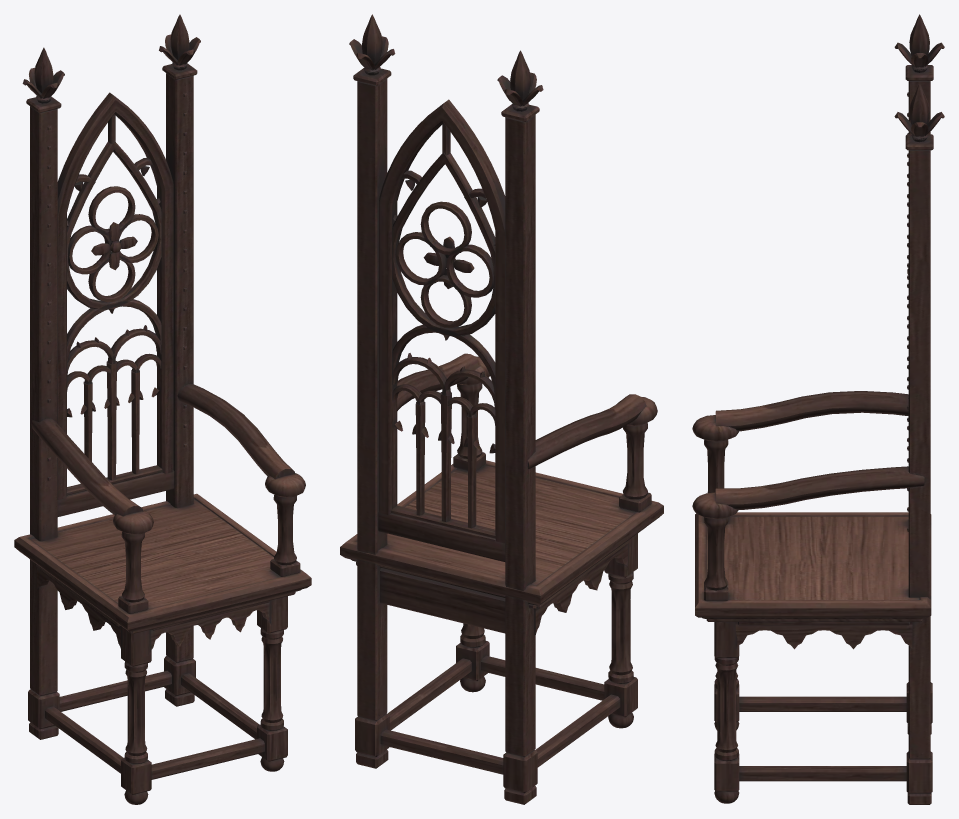
The model's file is chair.glb.
3 views of the same model, side by side, from view 1: azimuth 30°, elevation 25°; view 2: azimuth 150°, elevation 25°; view 3: azimuth 270°, elevation 25° (orthographic). The views are drawn at different scales.
Parts seen in each view (by area): view 1: SM_WoodenChair; view 2: SM_WoodenChair; view 3: SM_WoodenChair.
Part boxes in pixels (x1,y1,x2,y2): SM_WoodenChair: (14,14,311,804); SM_WoodenChair: (340,14,663,804); SM_WoodenChair: (692,14,944,804).
Size of the model in its own units: 0.466 by 1.64 by 0.5231.
Materials: 1 (1 with a texture image).
